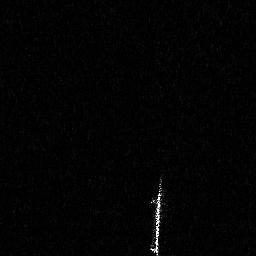ship: (148, 174, 169, 256)
